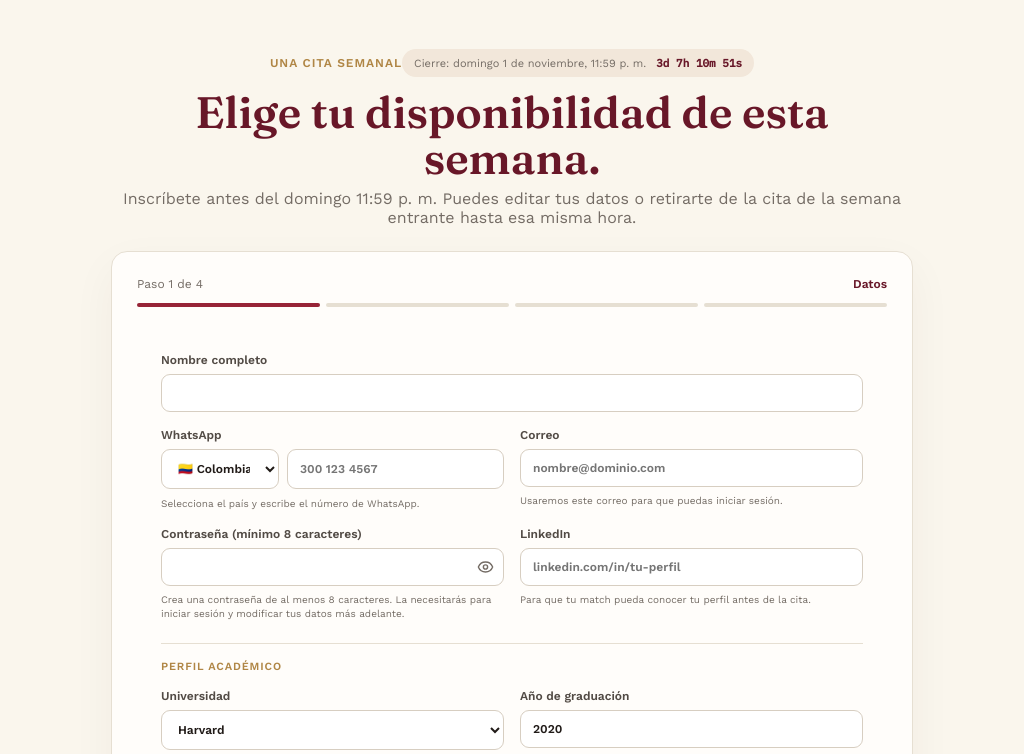
Test: RegistrationPanel · validación del paso 1 › en registro público, exige además una contraseña de al menos 8 caracteres
Type "Ana Pérez" into the field labelled "Nombre completo" at point(512, 393), box [161, 374, 863, 412]
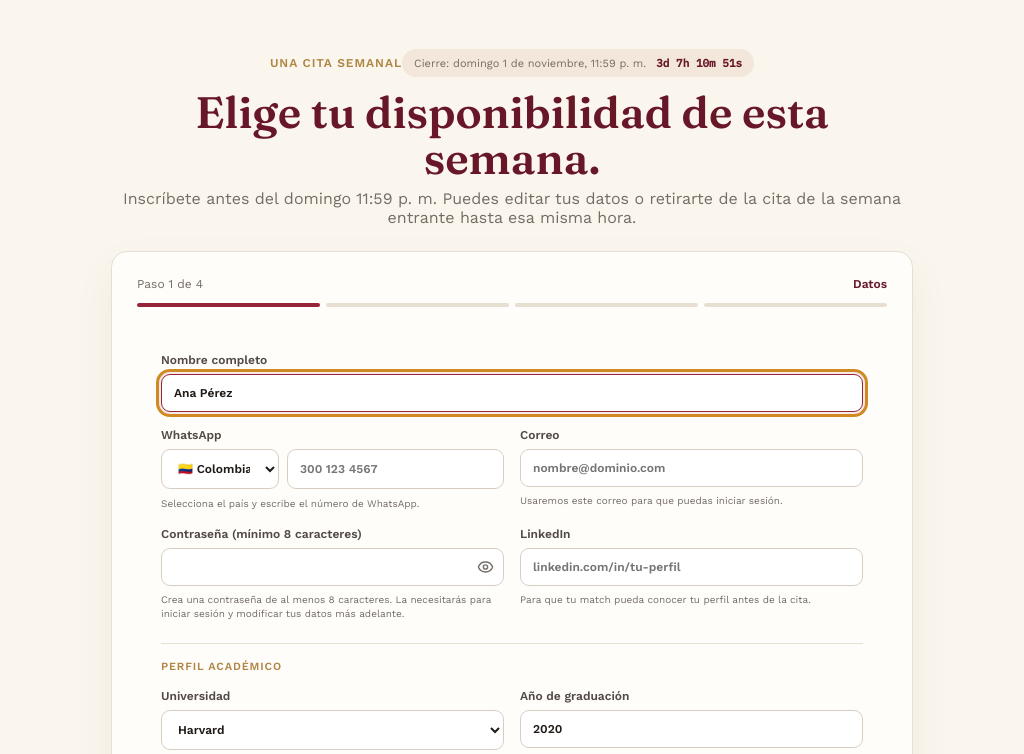
Type "3001234567" into the field with placeholder "300 123 4567" at point(396, 469), box [287, 449, 504, 489]
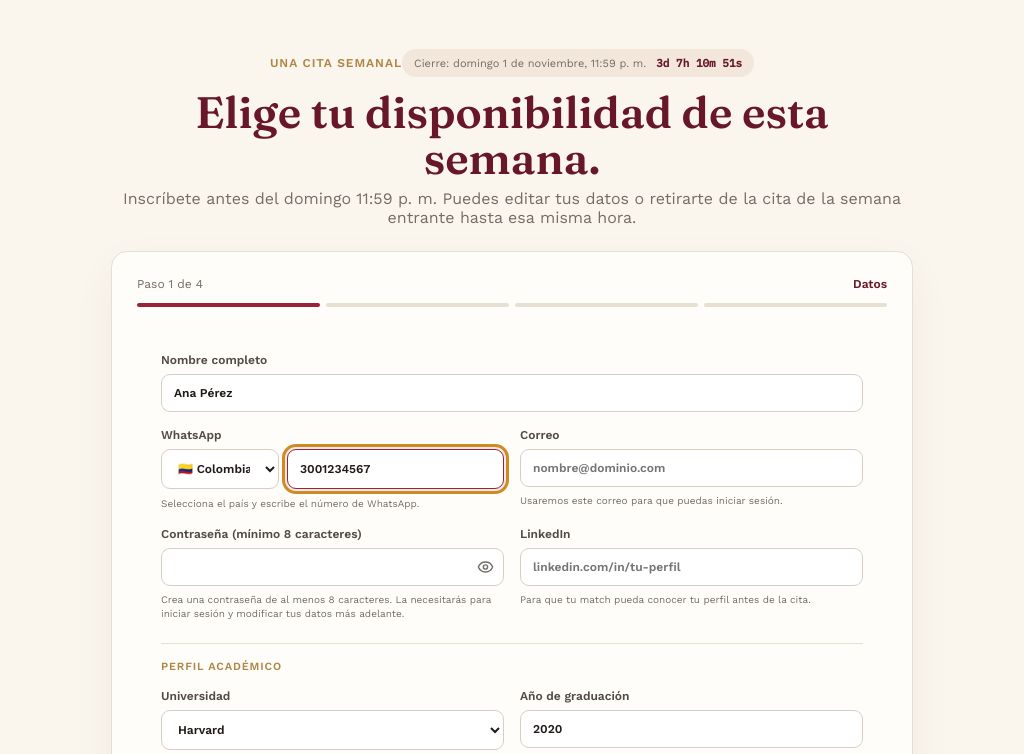
Type "ana@example.com" into the field labelled "Correo Usaremos este correo para que puedas iniciar sesión." at point(692, 468), box [520, 449, 863, 487]
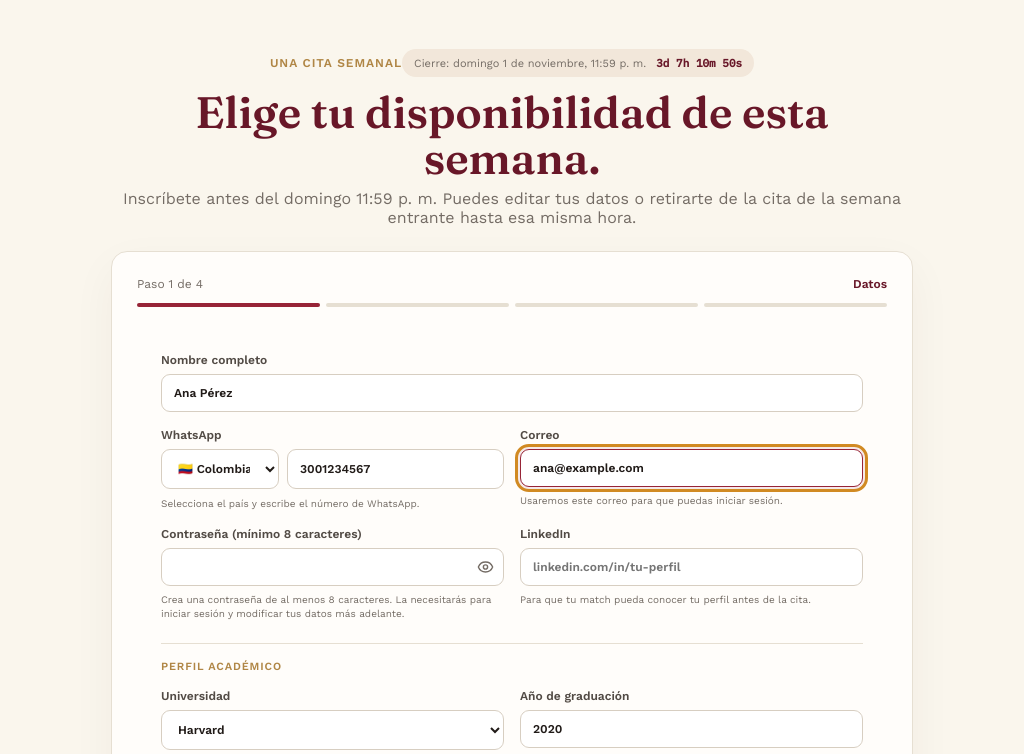
Type "https://linkedin.com/in/ana" into the field labelled "LinkedIn" at point(692, 567), box [520, 548, 863, 586]
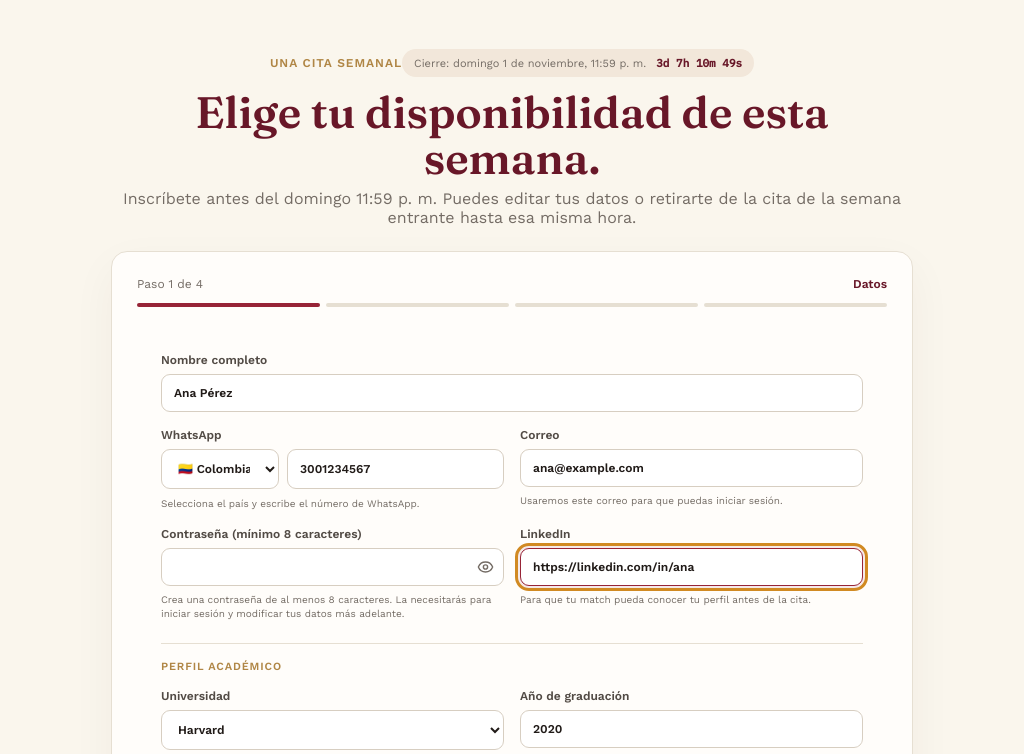
Type "1234567" into the password field labelled "Contraseña" at point(332, 567), box [161, 548, 504, 586]
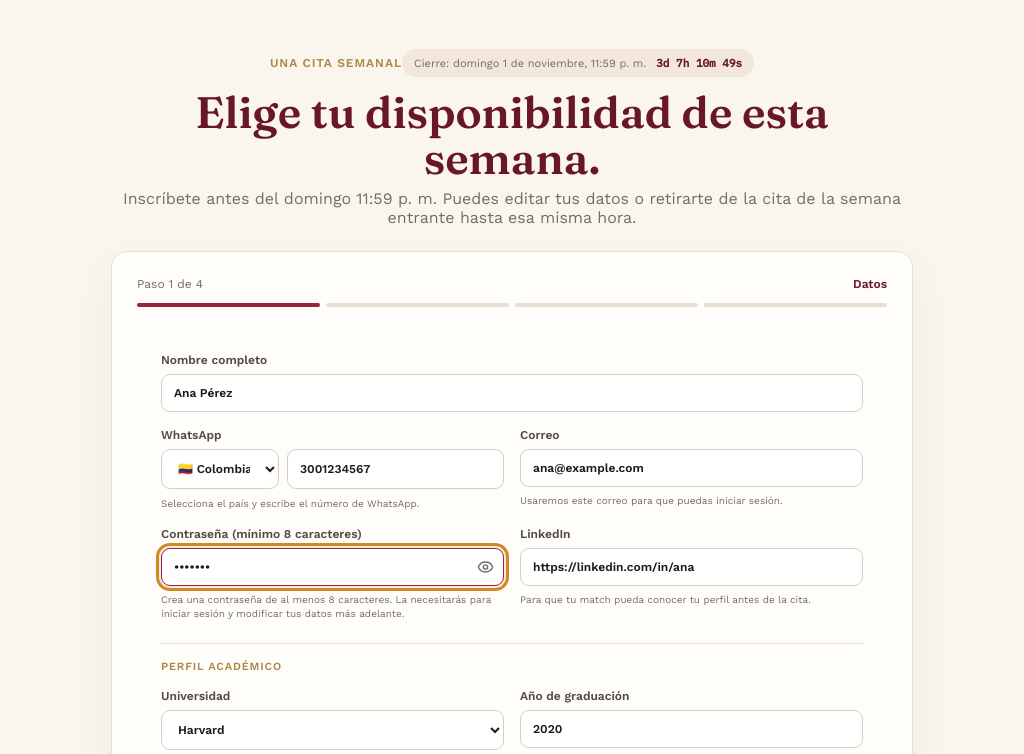
Type "8" into the password field labelled "Contraseña" at point(332, 567), box [161, 548, 504, 586]
(page scrolled)
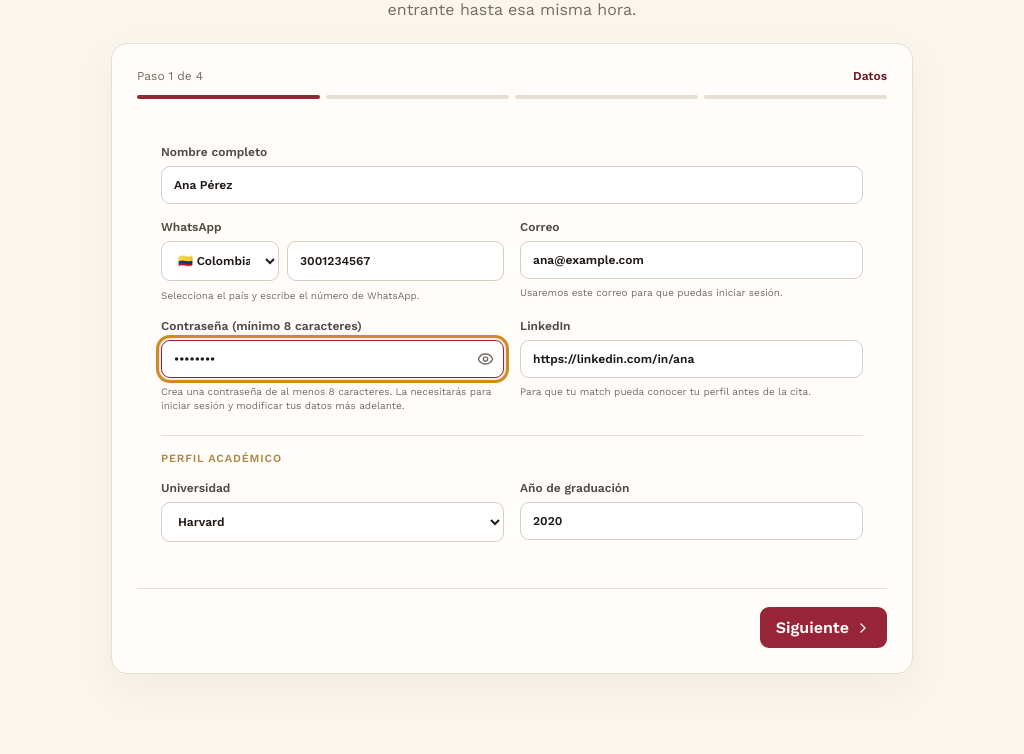
Expected: the button "Siguiente" is enabled, [760, 607, 887, 648]
